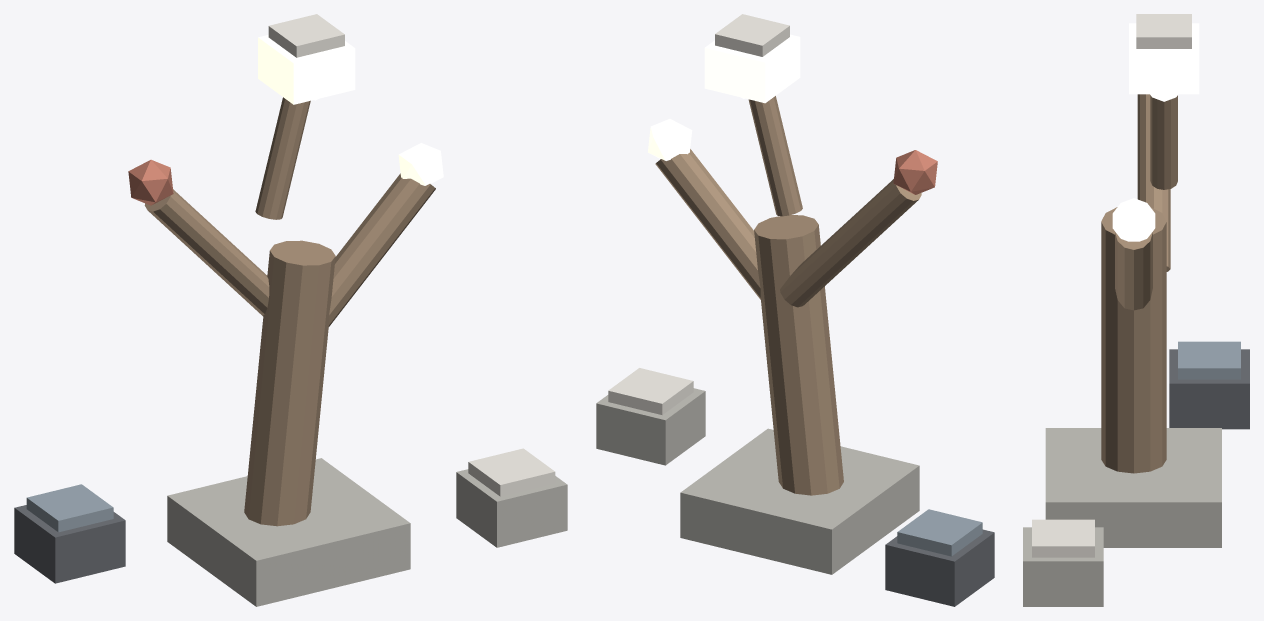
The model's file is LM26_GitHub.glb.
3 renders of one model, left to right at view 1: azimuth 30°, elevation 25°; view 2: azimuth 150°, elevation 25°; view 3: azimuth 270°, elevation 25°, orthographic.
Visible parts, largest first — view 1: TreeBase, Trunk, Key0, Key1, BranchA, BranchB, KeyTop, BranchC, GitHub, Key0Pad, Key1Pad, KeyTopPad; view 2: TreeBase, Trunk, Key1, Key0, BranchB, BranchA, KeyTop, BranchC, GitHub, Key1Pad, Key0Pad, KeyTopPad; view 3: TreeBase, Trunk, Key1, Key0, KeyTop, BranchA, BranchC, Key0Pad, Key1Pad, BranchB, KeyTopPad, GitHub.
Part boxes in pixels (box(x1,y1,x2,y2)): TreeBase: box(167, 458, 410, 606); Trunk: box(244, 240, 335, 526); Key0: box(14, 505, 125, 583); Key1: box(456, 469, 567, 547); BranchA: box(328, 173, 435, 326); BranchB: box(144, 189, 269, 316); KeyTop: box(258, 35, 355, 104); BranchC: box(255, 97, 310, 219); GitHub: box(128, 99, 443, 205); Key0Pad: box(26, 484, 113, 532); Key1Pad: box(468, 448, 555, 496); KeyTopPad: box(268, 14, 344, 57); TreeBase: box(680, 428, 919, 574); Trunk: box(754, 215, 843, 495); Key1: box(596, 388, 705, 465); Key0: box(885, 529, 994, 606); BranchB: box(780, 179, 921, 307); BranchA: box(655, 149, 760, 299); KeyTop: box(704, 34, 800, 103); BranchC: box(748, 96, 802, 216); GitHub: box(648, 97, 937, 194); Key1Pad: box(608, 368, 693, 414); Key0Pad: box(897, 509, 982, 556); KeyTopPad: box(715, 14, 789, 56); TreeBase: box(1045, 428, 1221, 547); Trunk: box(1101, 207, 1166, 473); Key1: box(1023, 527, 1103, 606); Key0: box(1169, 349, 1249, 429); KeyTop: box(1129, 23, 1199, 94); BranchA: box(1115, 232, 1152, 310); BranchC: box(1150, 95, 1177, 189); Key0Pad: box(1178, 341, 1240, 379); Key1Pad: box(1032, 519, 1094, 557); BranchB: box(1137, 94, 1170, 271); KeyTopPad: box(1136, 14, 1191, 48); GitHub: box(1112, 94, 1177, 241).
Size of the model in its own units: 1.99 by 2.2 by 0.9.
